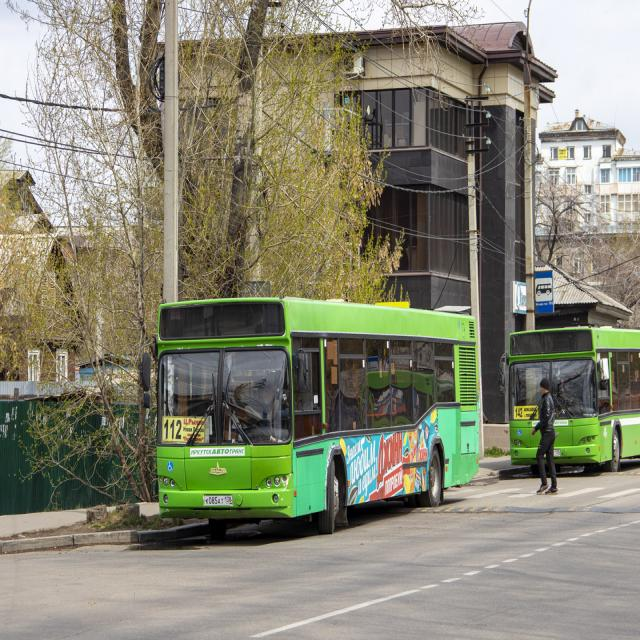number-of-bus: (165, 417, 184, 443)
